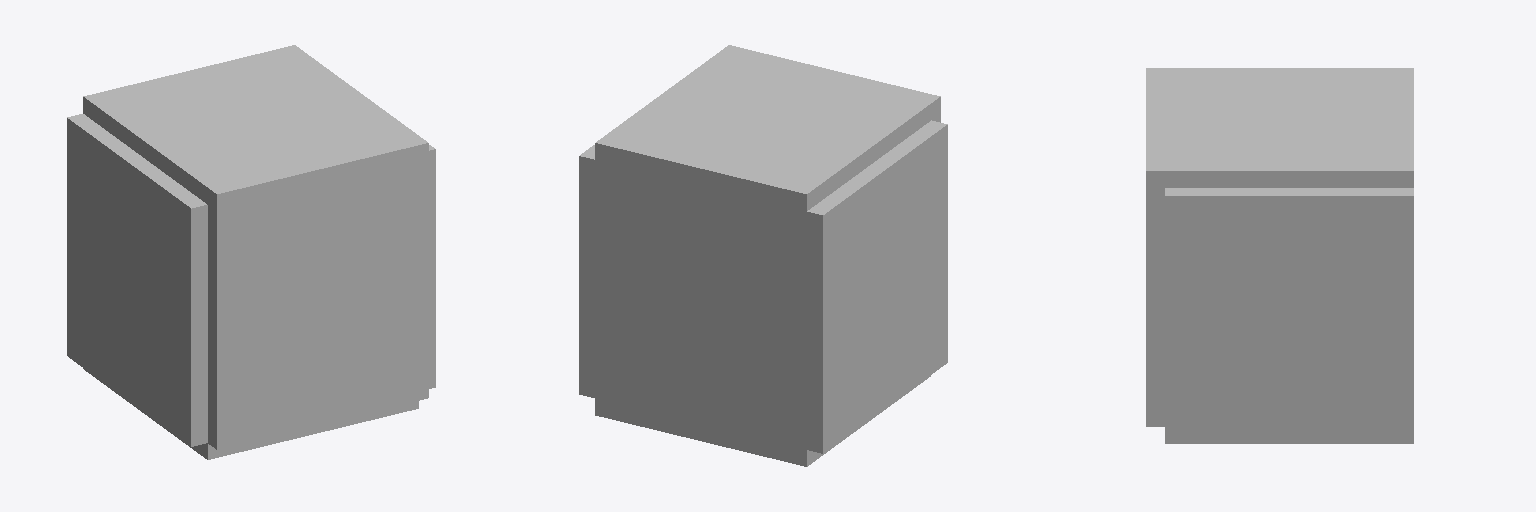
Rendered from Level Cube.obj.
3 renders of one model, left to right at view 1: azimuth 30°, elevation 25°; view 2: azimuth 150°, elevation 25°; view 3: azimuth 270°, elevation 25°, orthographic.
Visible parts, largest first — view 1: Cube; view 2: Cube; view 3: Cube.
Part boxes in pixels (bbox=[...]): Cube: bbox=[67, 45, 435, 459]; Cube: bbox=[579, 45, 947, 466]; Cube: bbox=[1146, 68, 1413, 443].
Bounding box in the file's own units: 15 × 16 × 14.24.